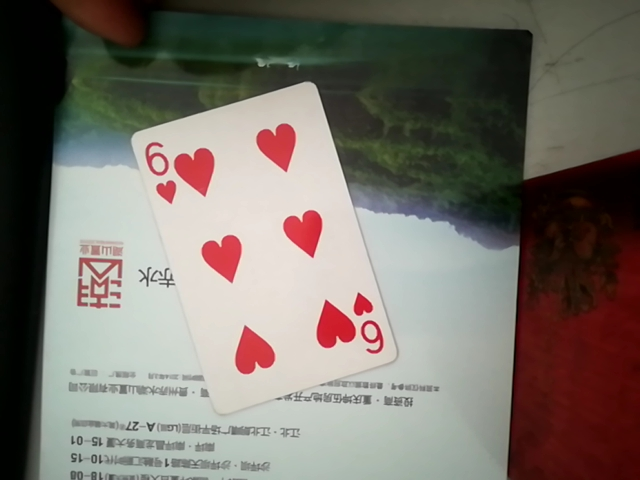hx 6: (115, 71, 407, 409)
